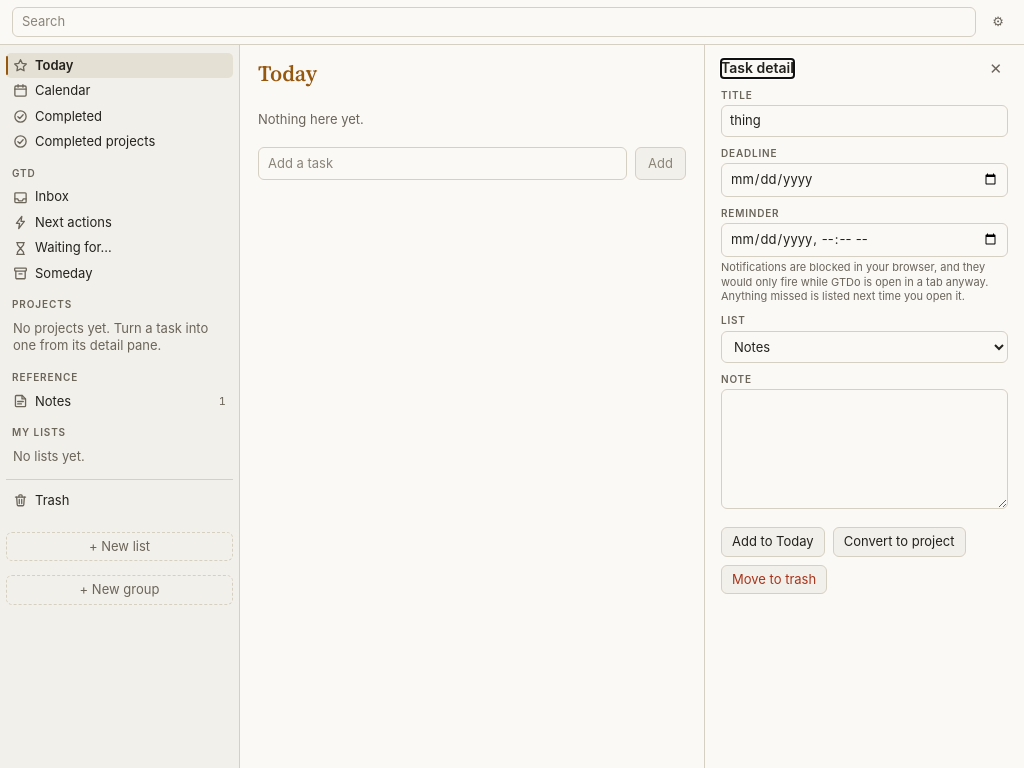
Test: An undo bar is only offered for a mutation that happened › theMoveMenuStillOffersUndoForAMoveThatHappens
Select "Someday" in the dropdown labelled "List". click: coordinates (864, 347)
box: [721,331,1008,363]
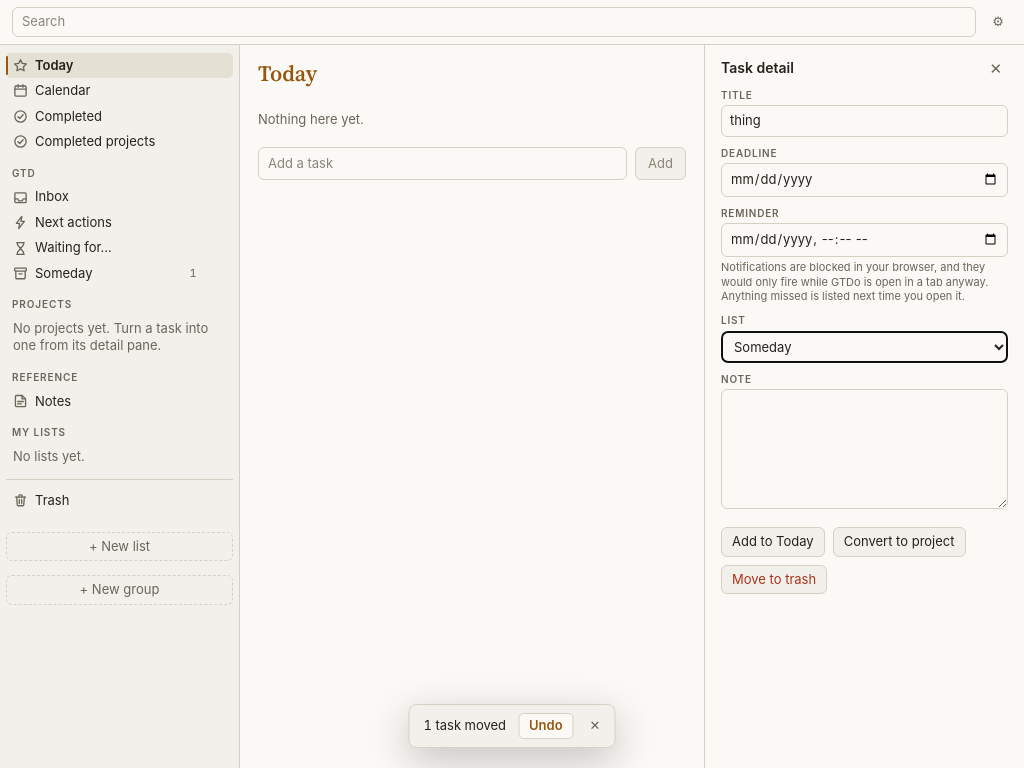
Now the text "1 task moved" is shown, box [424,718,506,735]
